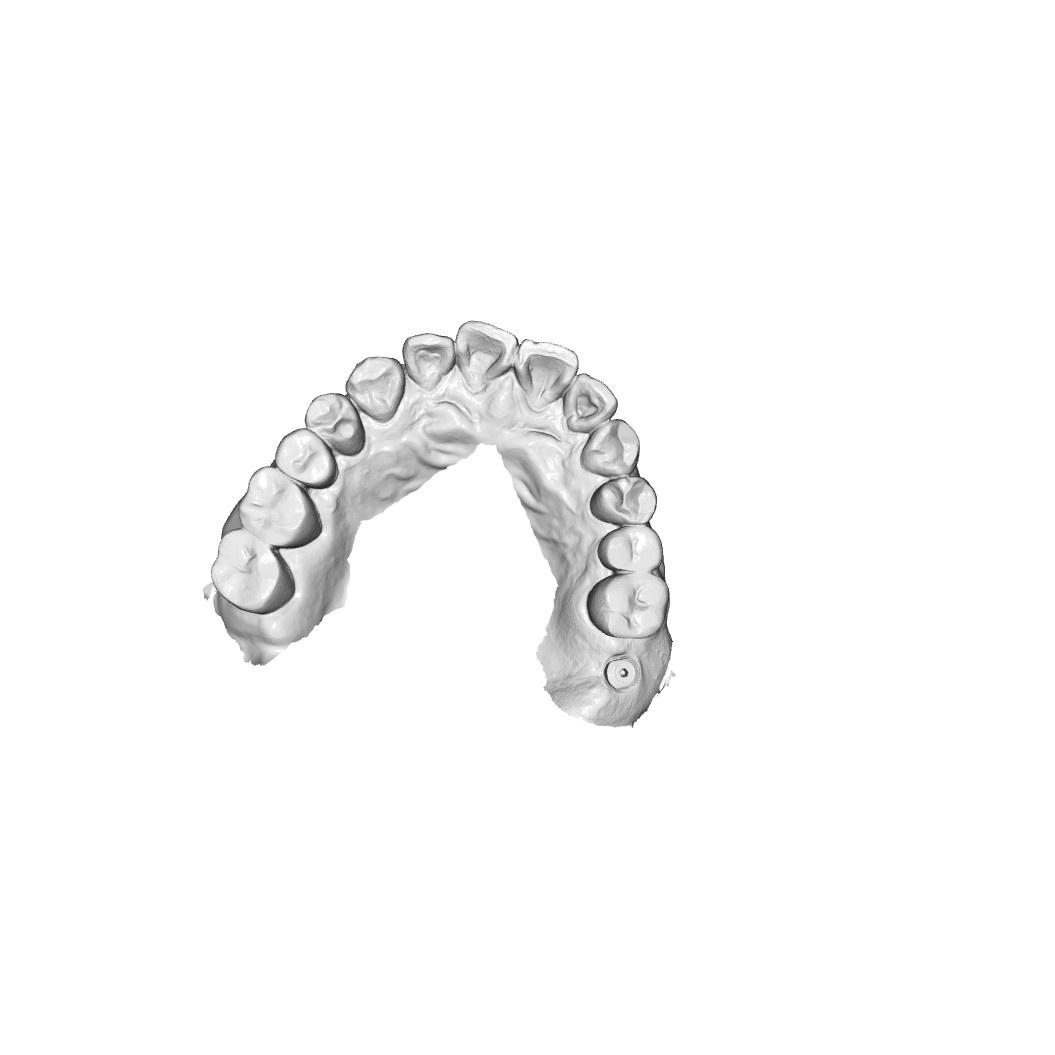canine: (343, 355, 406, 425), (577, 415, 641, 481)
implant: (600, 656, 646, 694)
incisor: (453, 315, 520, 392), (515, 340, 579, 404), (561, 370, 615, 434), (401, 331, 456, 392)
molar: (209, 528, 296, 615), (237, 466, 319, 549), (587, 570, 672, 641)
premolar: (303, 391, 368, 459), (274, 428, 339, 492), (597, 527, 664, 575), (591, 476, 655, 526)
